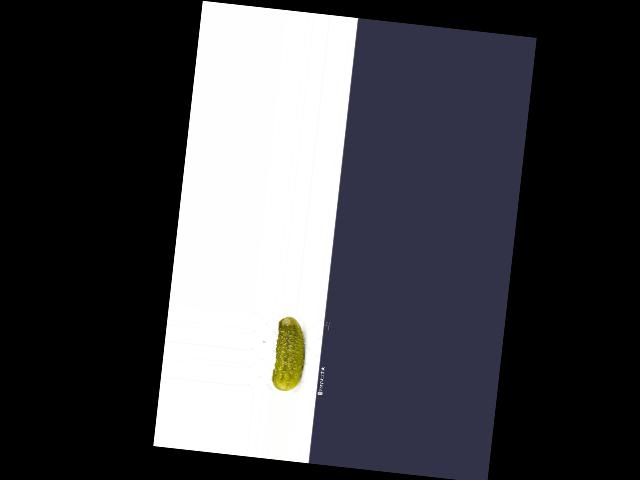cucumber: (271, 314, 309, 392)
